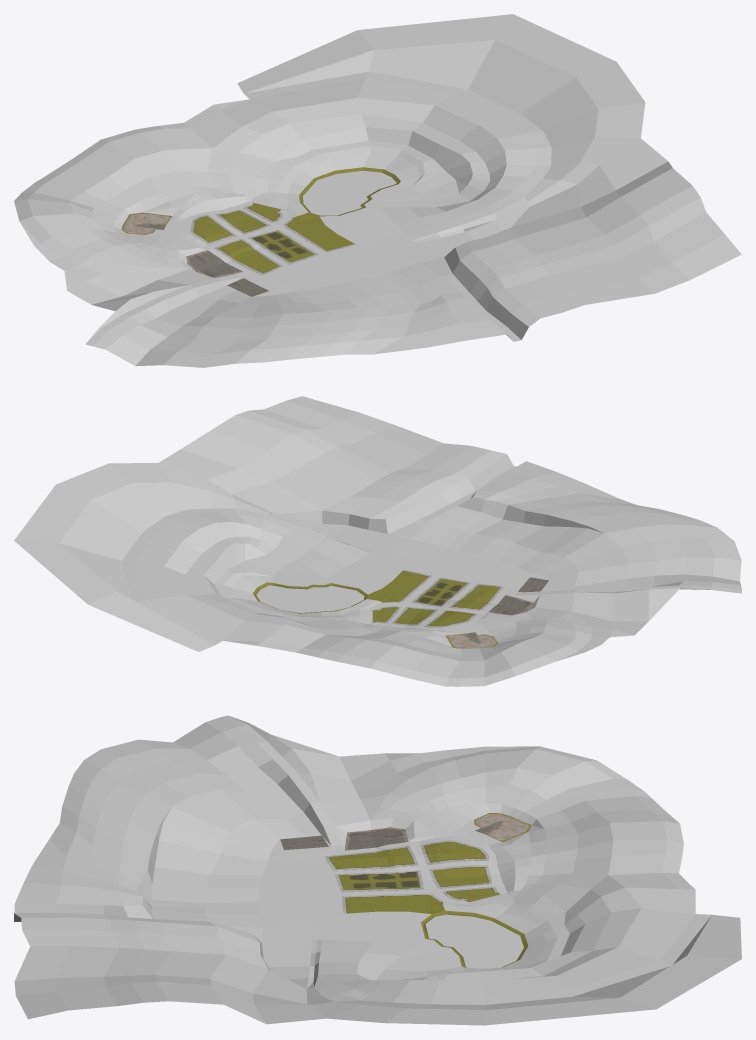
The model's file is Terrain_bak.fbx.
3 renders of one model, top to bottom at view 1: azimuth 30°, elevation 25°; view 2: azimuth 150°, elevation 25°; view 3: azimuth 270°, elevation 25°, orthographic. The views are drawn at different scales.
Visible parts, largest first — view 1: Plane; view 2: Plane; view 3: Plane.
Part boxes in pixels (x1=…): Plane: x1=14, y1=14, x2=741, y2=367; Plane: x1=14, y1=396, x2=741, y2=686; Plane: x1=14, y1=715, x2=741, y2=1025.
Bounding box in the file's own units: 238 × 25.29 × 203.
